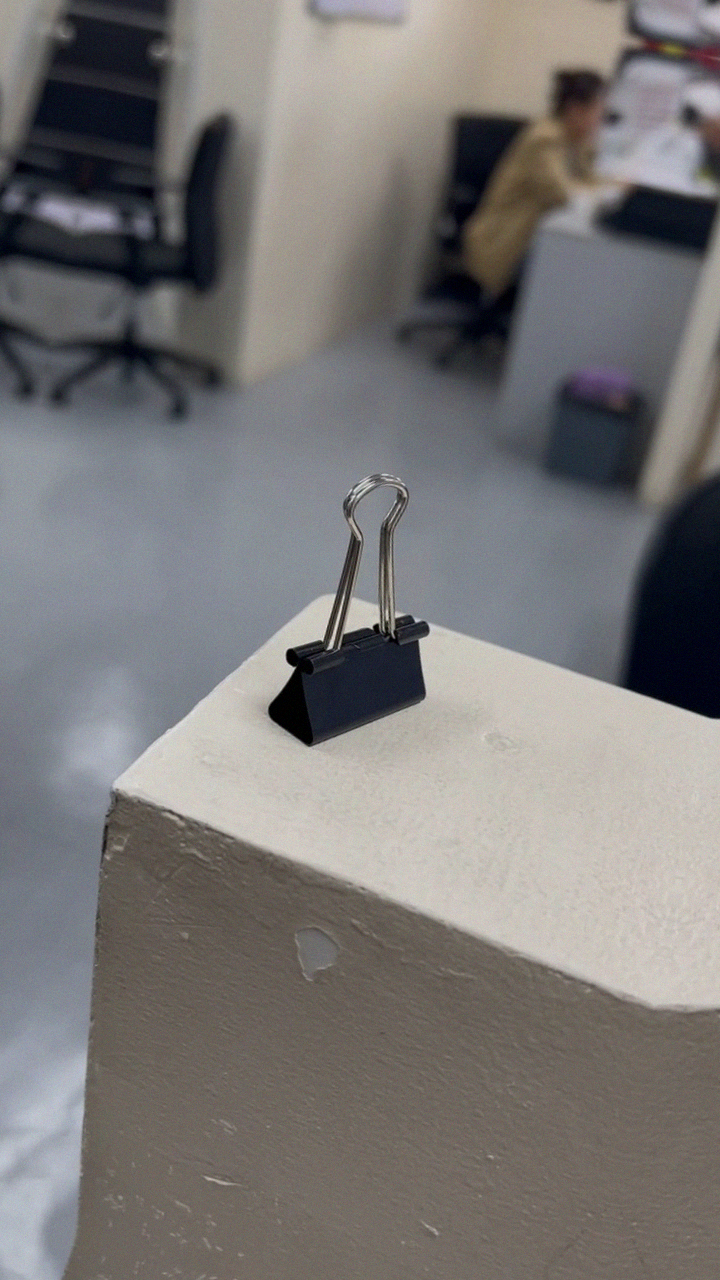kep_giay: (253, 456, 478, 773)
